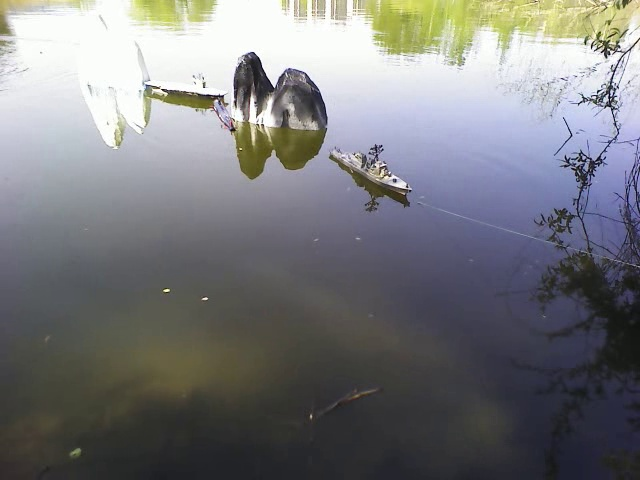aircraft_carrier: (149, 74, 227, 99)
iceberg: (76, 8, 147, 88)
rock: (232, 46, 336, 136)
submarine: (213, 96, 241, 133)
warship: (326, 142, 415, 198)
